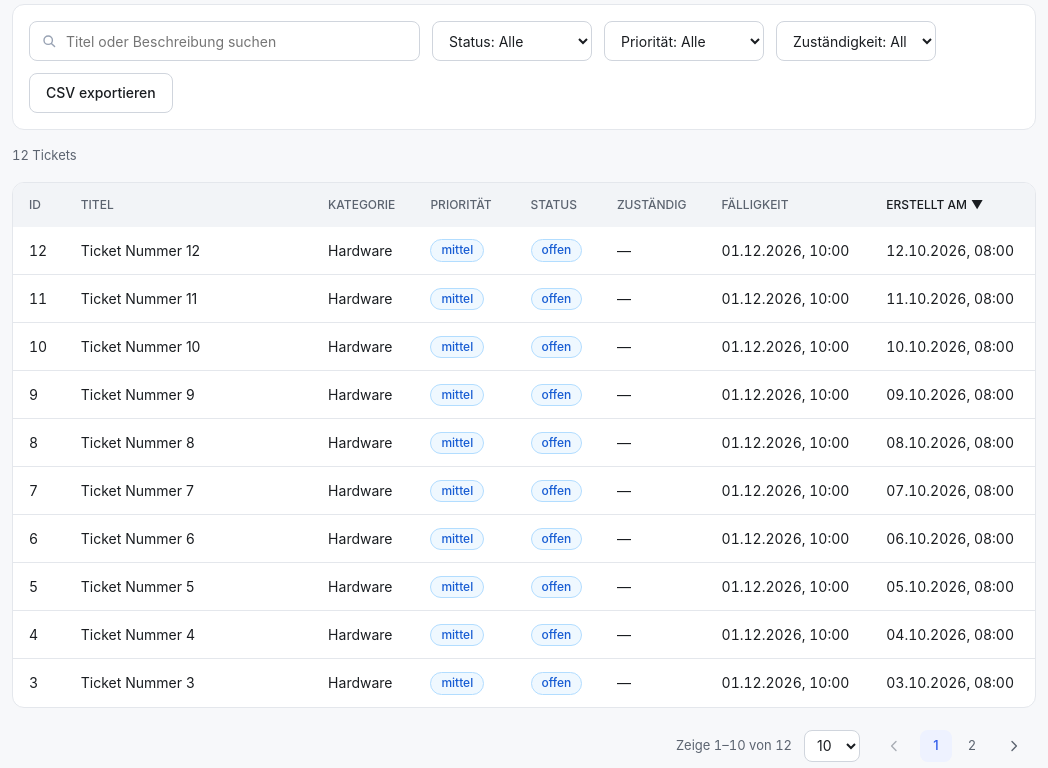
it: TicketsPage › pages through the result and requests the next page
This screenshot has width=1048, height=768.
(page scrolled)
Expected: the text "Zeige 1–10 von 12" is shown, [676,736,792,755]
Click the button named "Nächste Seite": (1014, 746) [992,724,1036,767]
(page scrolled)
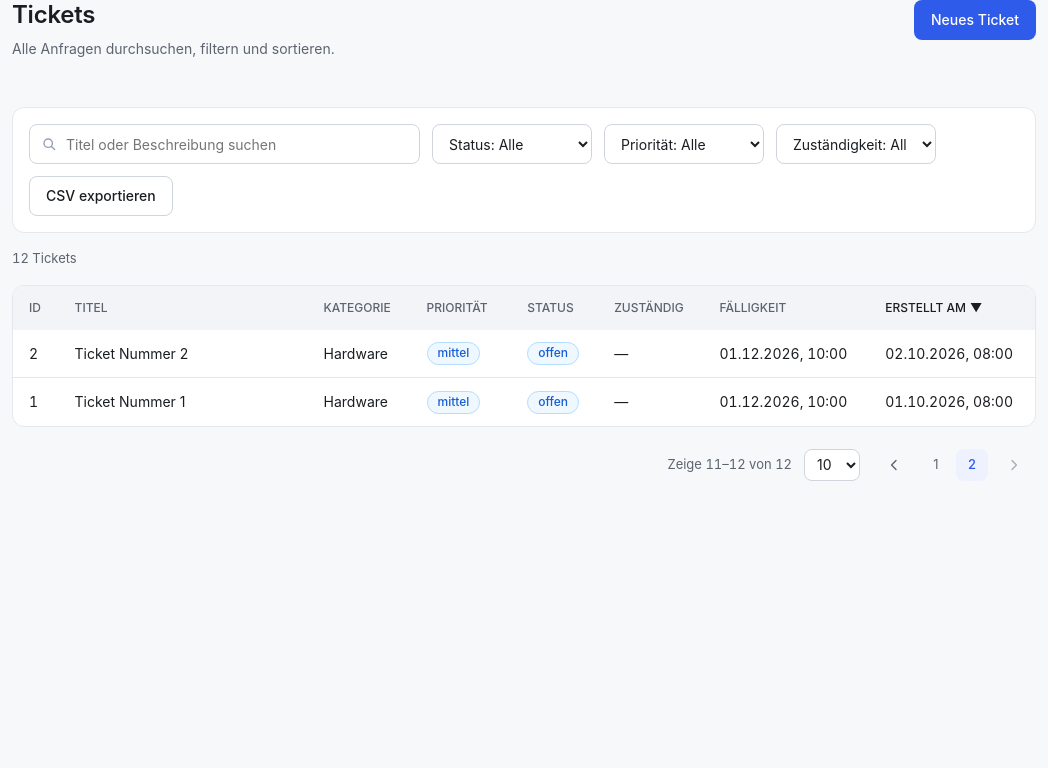
Now the text "Zeige 11–12 von 12" is shown, box [668,455,792,474]
